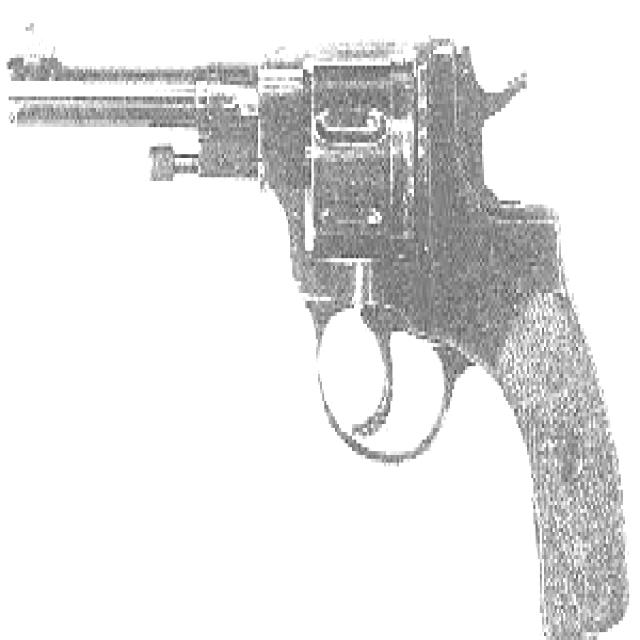pistol: (11, 12, 634, 636)
